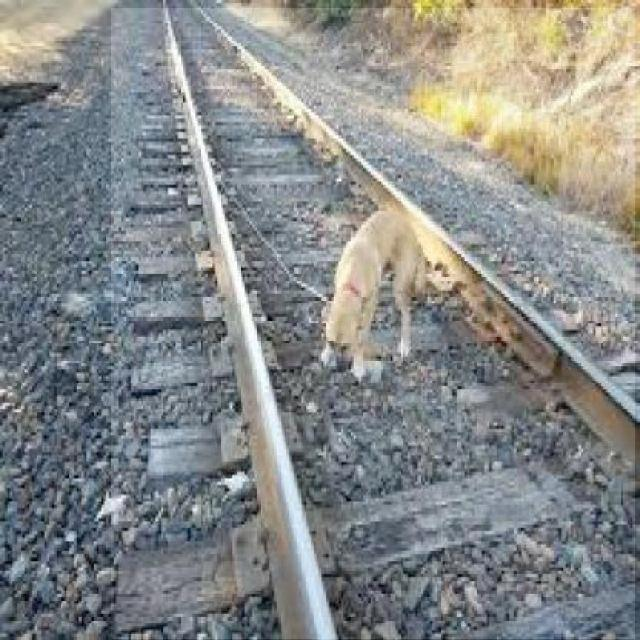rail: (112, 9, 636, 640)
